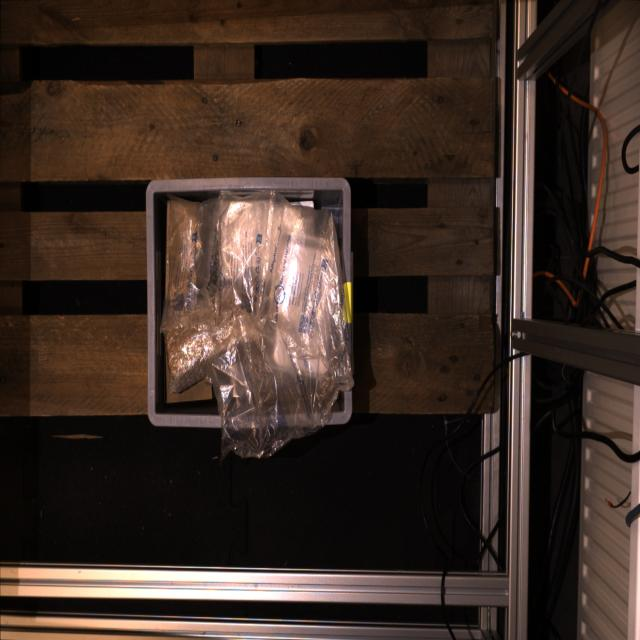PackagingAirBags: (162, 191, 345, 457)
